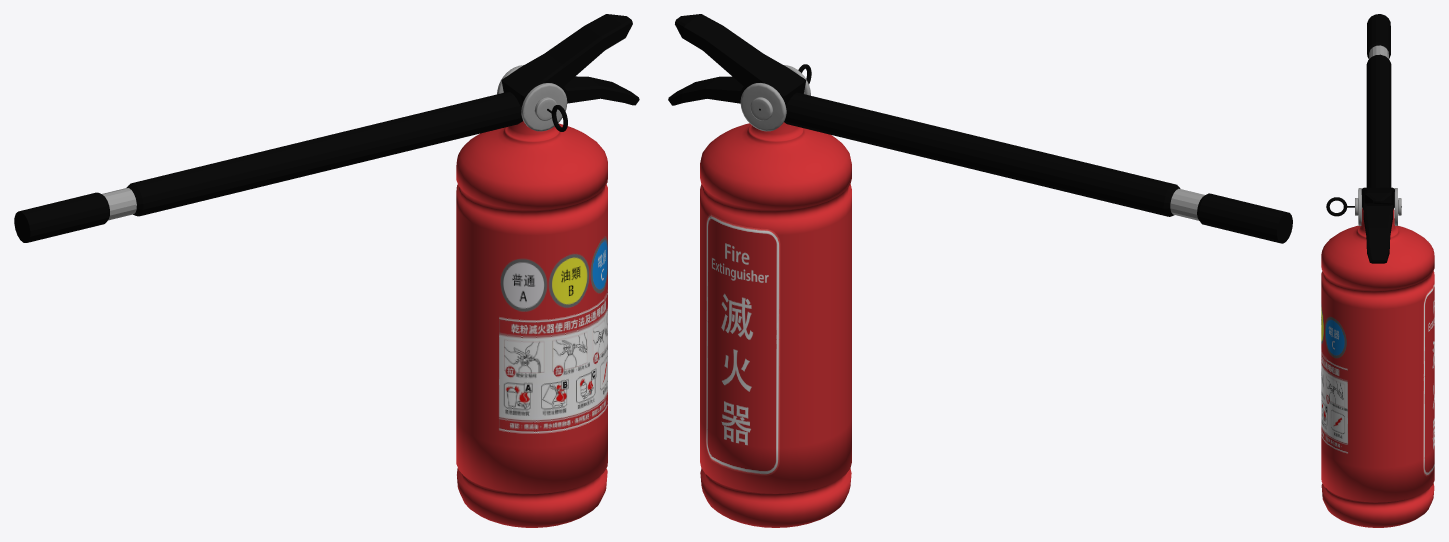
The model's file is Fire_extinguisher_02.FBX.
3 views of the same model, side by side, from view 1: azimuth 30°, elevation 25°; view 2: azimuth 150°, elevation 25°; view 3: azimuth 270°, elevation 25° (orthographic). The views are drawn at different scales.
Visible parts, largest first — view 1: Fire_extinguisher_body, pipe, Fire_extinguisher_up, Fire_extinguisher_down; view 2: Fire_extinguisher_body, pipe, Fire_extinguisher_up, Fire_extinguisher_down; view 3: Fire_extinguisher_body, pipe, Fire_extinguisher_down, Fire_extinguisher_up, Torus001.
Part boxes in pixels (<box>): Fire_extinguisher_body: <box>456,65,607,527</box>; pipe: <box>14,92,522,242</box>; Fire_extinguisher_up: <box>501,14,632,108</box>; Fire_extinguisher_down: <box>559,76,639,105</box>; Fire_extinguisher_body: <box>700,65,851,527</box>; pipe: <box>784,92,1292,243</box>; Fire_extinguisher_up: <box>675,14,806,106</box>; Fire_extinguisher_down: <box>668,76,747,105</box>; Fire_extinguisher_body: <box>1321,188,1434,527</box>; pipe: <box>1366,14,1391,187</box>; Fire_extinguisher_down: <box>1361,194,1394,263</box>; Fire_extinguisher_up: <box>1361,187,1394,205</box>; Torus001: <box>1326,197,1401,216</box>.
Bounding box in the file's own units: 1278 × 929 × 274.
